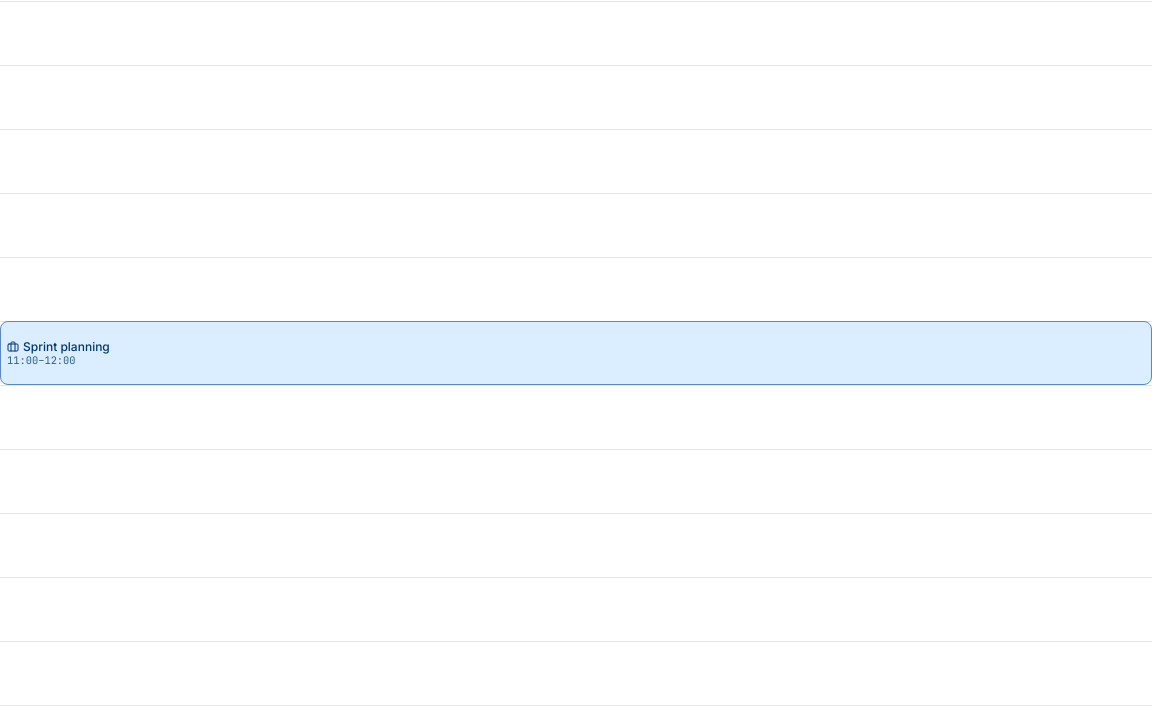
Test: DayColumn › tapping an existing event opens its own edit dialog, not the slot's create dialog
(page scrolled)
Click the text "Sprint planning": [66, 346] box x1=23 y1=339 x2=110 y2=354
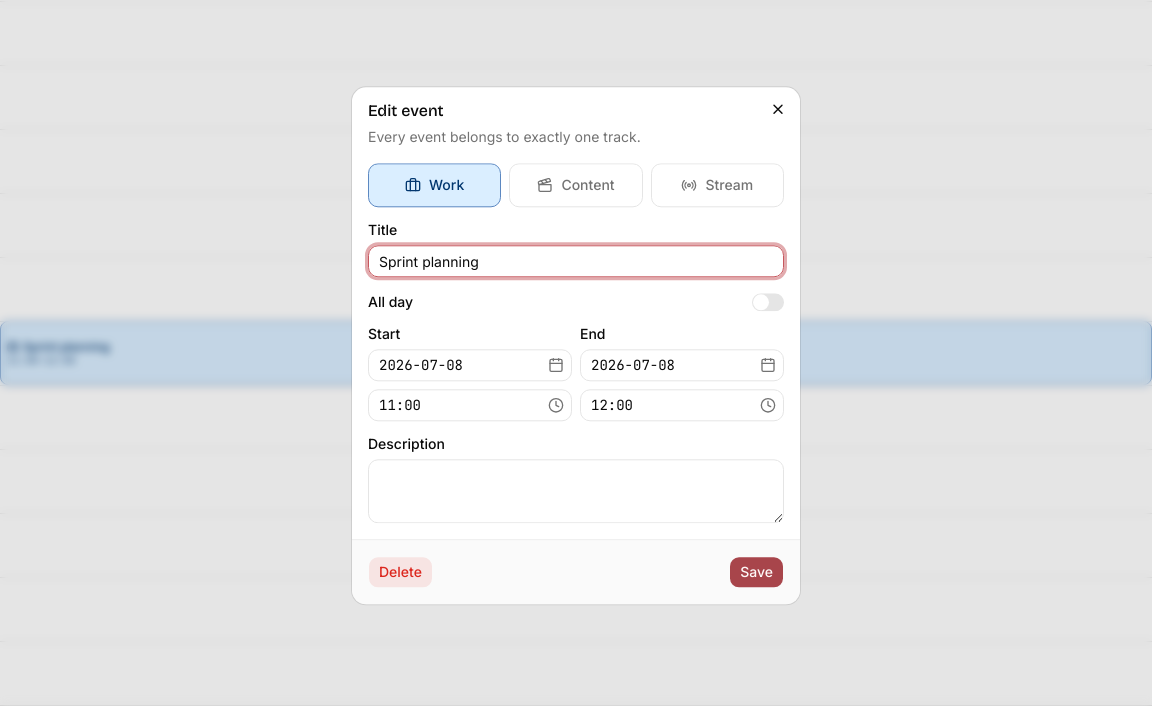
Now the dialog "Edit event" is shown, box x1=352 y1=87 x2=800 y2=605
